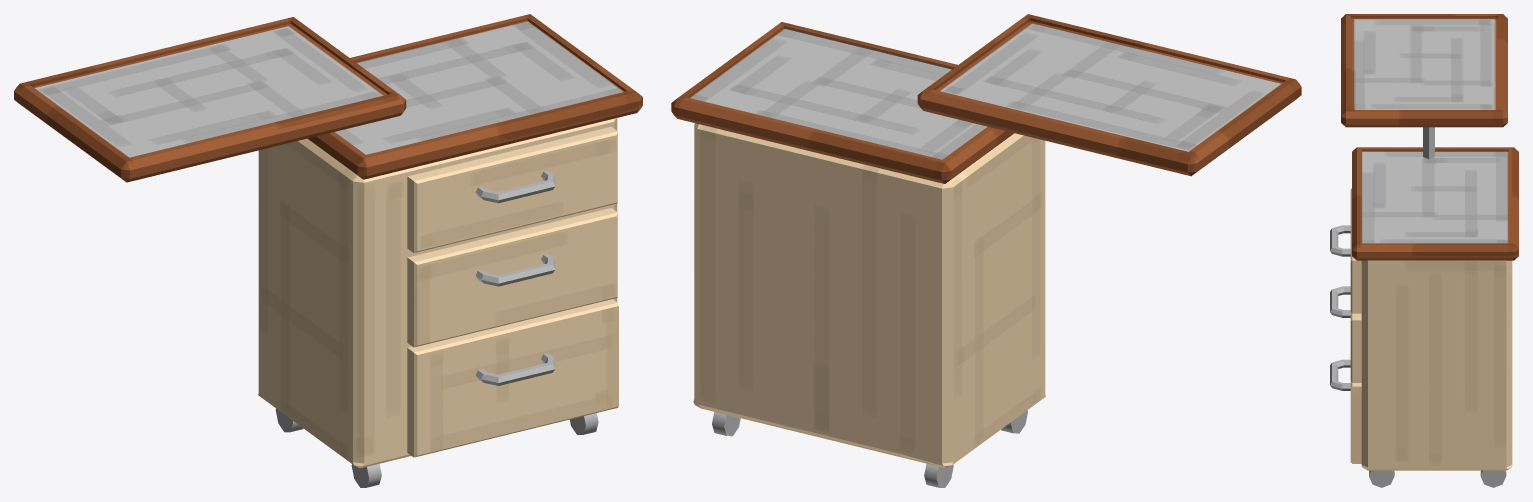
Rendered from comodino.FBX.
3 renders of one model, left to right at view 1: azimuth 30°, elevation 25°; view 2: azimuth 150°, elevation 25°; view 3: azimuth 270°, elevation 25°, orthographic. The views are drawn at different scales.
Visible parts, largest first — view 1: comodino, tavolino; view 2: comodino, tavolino; view 3: comodino, tavolino.
Part boxes in pixels (bbox=[...]): comodino: bbox=[258, 14, 642, 487]; tavolino: bbox=[14, 17, 406, 182]; comodino: bbox=[671, 22, 1045, 487]; tavolino: bbox=[917, 14, 1301, 176]; comodino: bbox=[1330, 147, 1518, 487]; tavolino: bbox=[1341, 14, 1507, 159].
Bounding box in the file's own units: 1.19 × 0.8718 × 0.4986.
